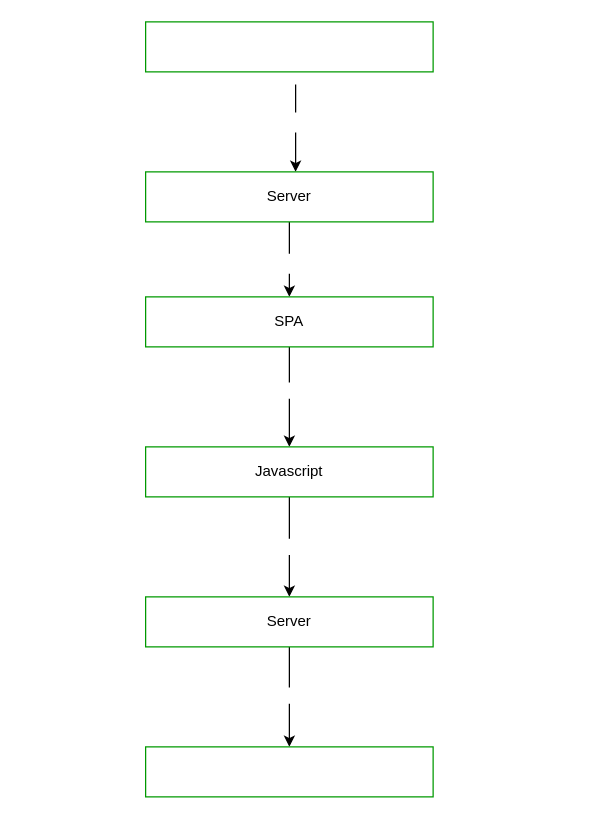
Some shapes in this 590 by 819 pixel diagram are drawn without their labels. Here are the shapes that lost their labels. From the top down, the centre of each, then its label:
At (x=288, y=46): "Web browser".
At (x=288, y=771): "Data".
